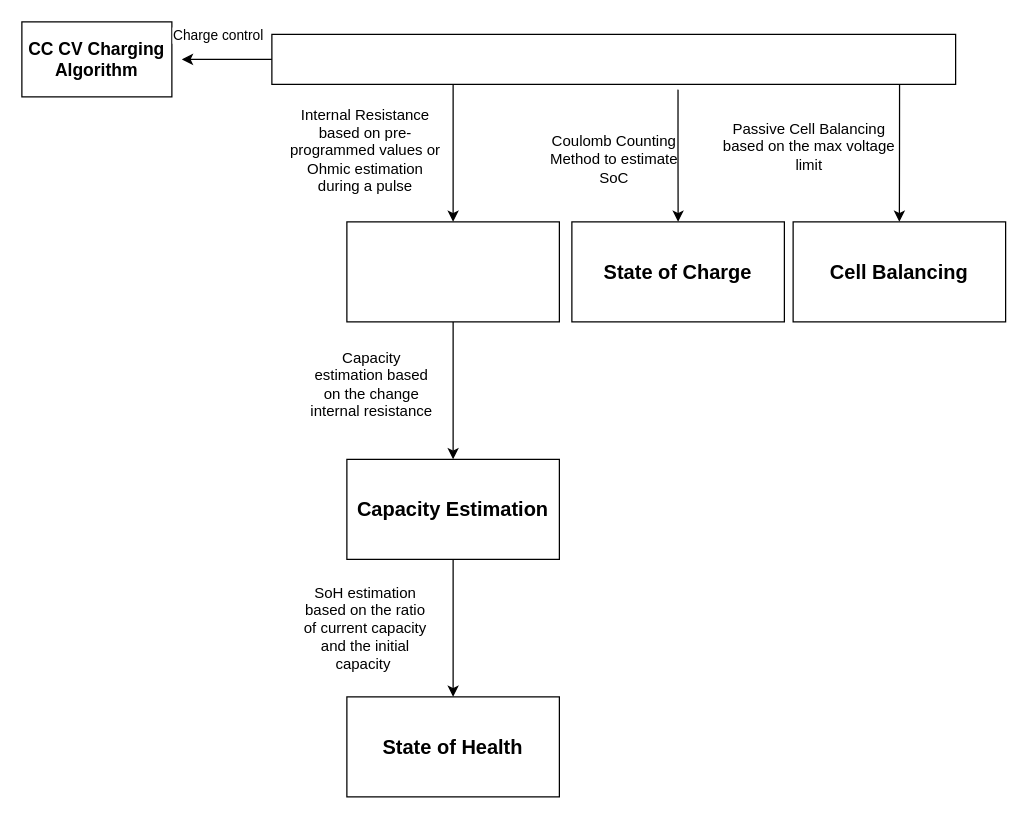
This 1028x819 diagram has some shape labels left out. The shapes that lost their labels are listed below. From the top down, each one's box as (x1, y1, x2, y2) in pixels, then its label:
(271, 33, 956, 84): INPUT VALUES MEASURED BY THE BMS : Voltage,Current
(346, 221, 559, 322): Internal Resistance
